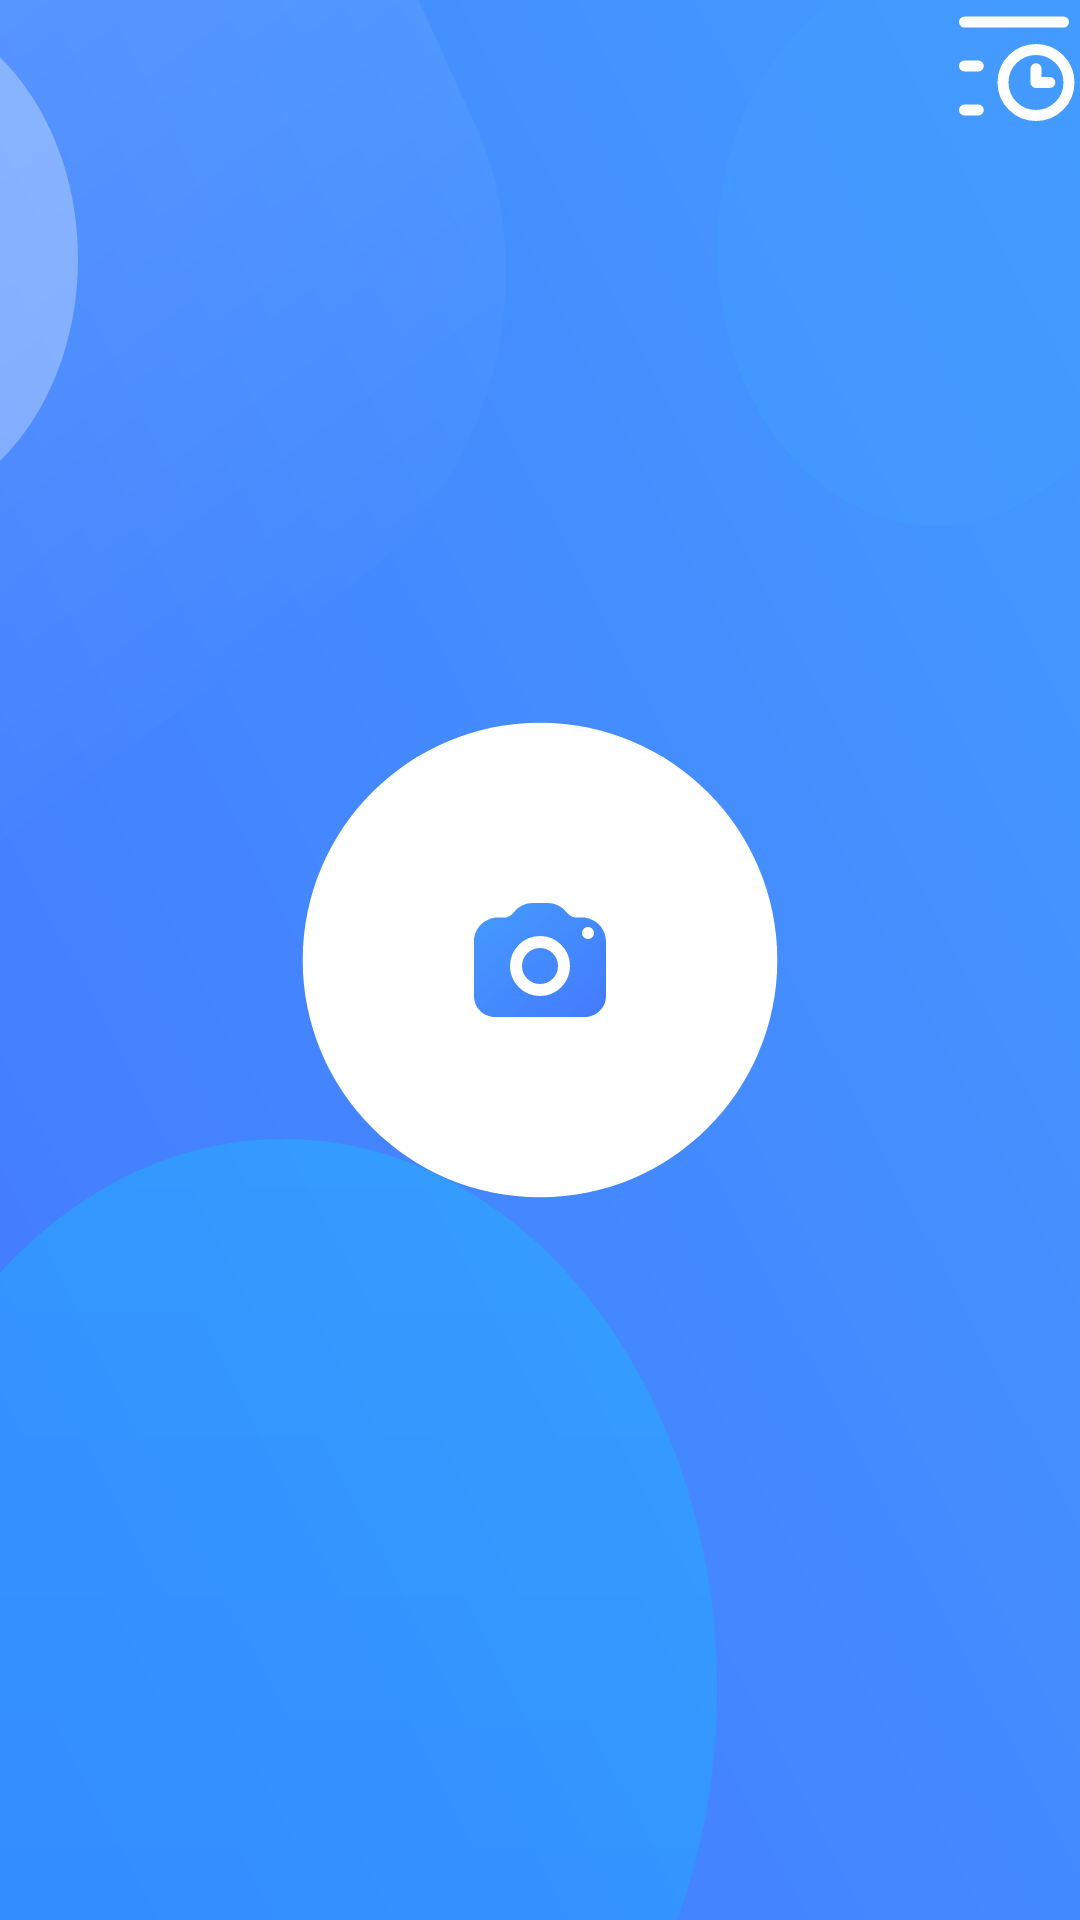

Where icons sit on this 1080x1920 app screen, as detection(x1, y1, x2, y2):
mainpage camera: detection(474, 903, 606, 1017)
mainpage history: detection(959, 16, 1075, 121)
